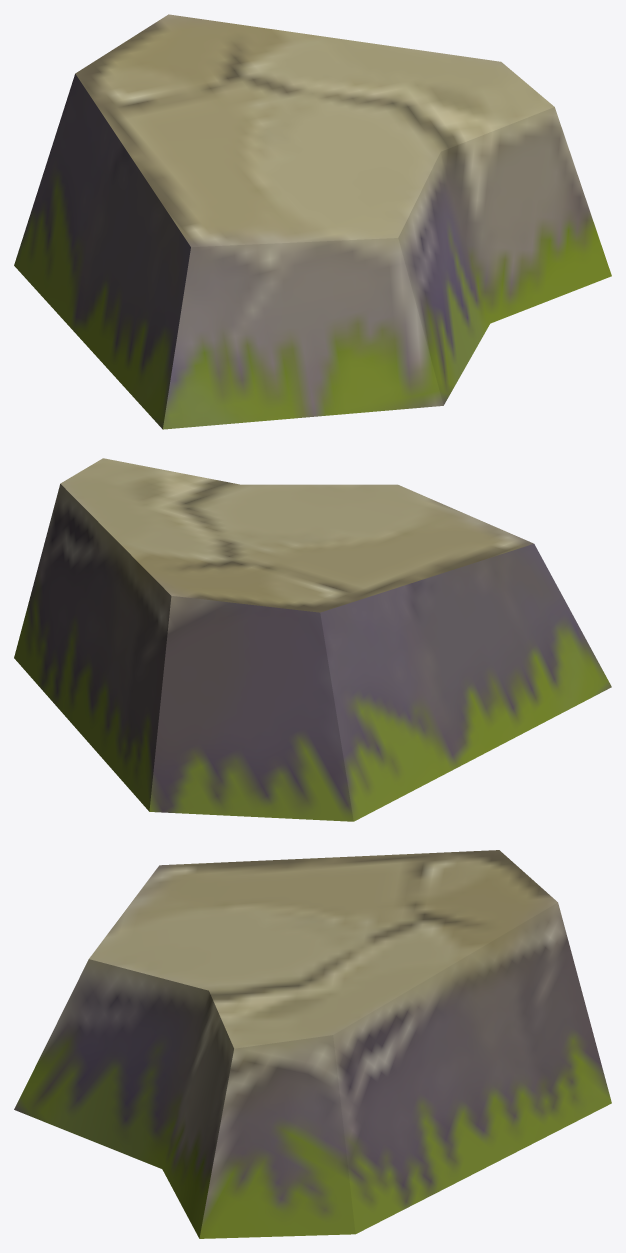
File: scenes_construction_stone01c.FBX
3 renders of one model, top to bottom at view 1: azimuth 30°, elevation 25°; view 2: azimuth 150°, elevation 25°; view 3: azimuth 270°, elevation 25°, orthographic. The views are drawn at different scales.
Parts seen in each view (by area): view 1: scenes_construction_stone01c; view 2: scenes_construction_stone01c; view 3: scenes_construction_stone01c.
Boxes of the visible parts, x1,y1,x2,y2 form: scenes_construction_stone01c: [14, 14, 611, 429]; scenes_construction_stone01c: [14, 458, 611, 821]; scenes_construction_stone01c: [14, 850, 611, 1238].
Size of the model in its own units: 151 by 58.2 by 155.
